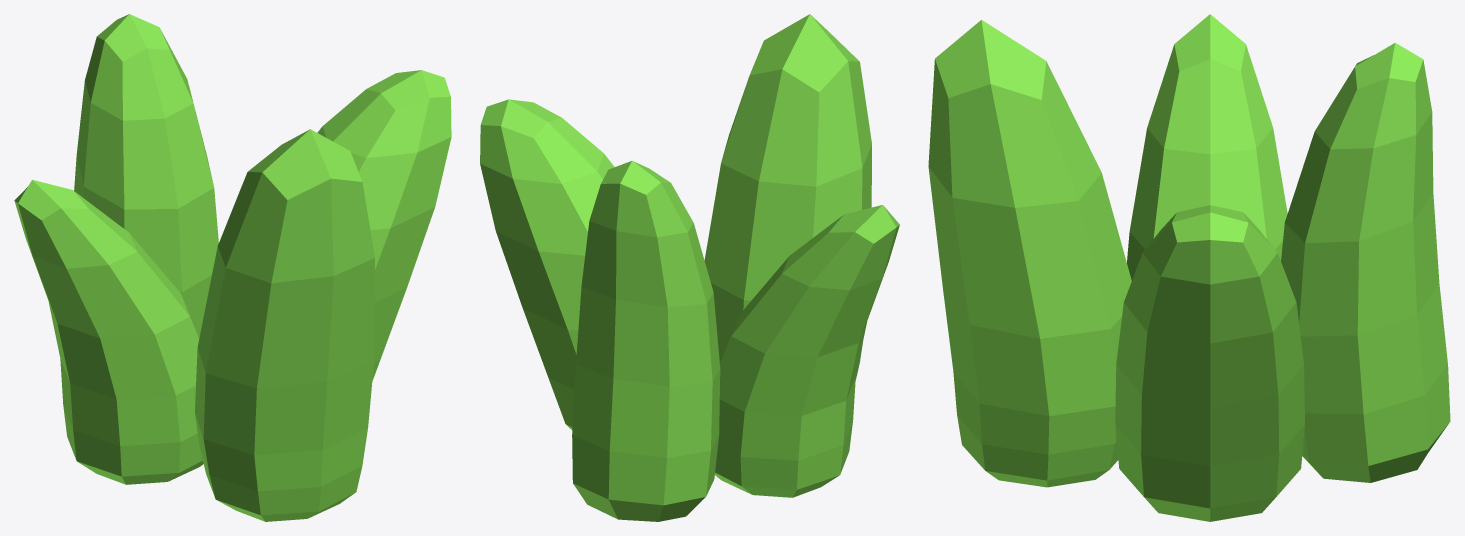
File: grass2.fbx
3 renders of one model, left to right at view 1: azimuth 30°, elevation 25°; view 2: azimuth 150°, elevation 25°; view 3: azimuth 270°, elevation 25°, orthographic. The views are drawn at different scales.
Parts seen in each view (by area): view 1: Grass2; view 2: Grass2; view 3: Grass2.
Part boxes in pixels (x1,y1,x2,y2): Grass2: (14,14,451,521); Grass2: (480,14,899,521); Grass2: (928,14,1450,521).
Bounding box in the file's own units: 51.59 × 45.75 × 48.22.
